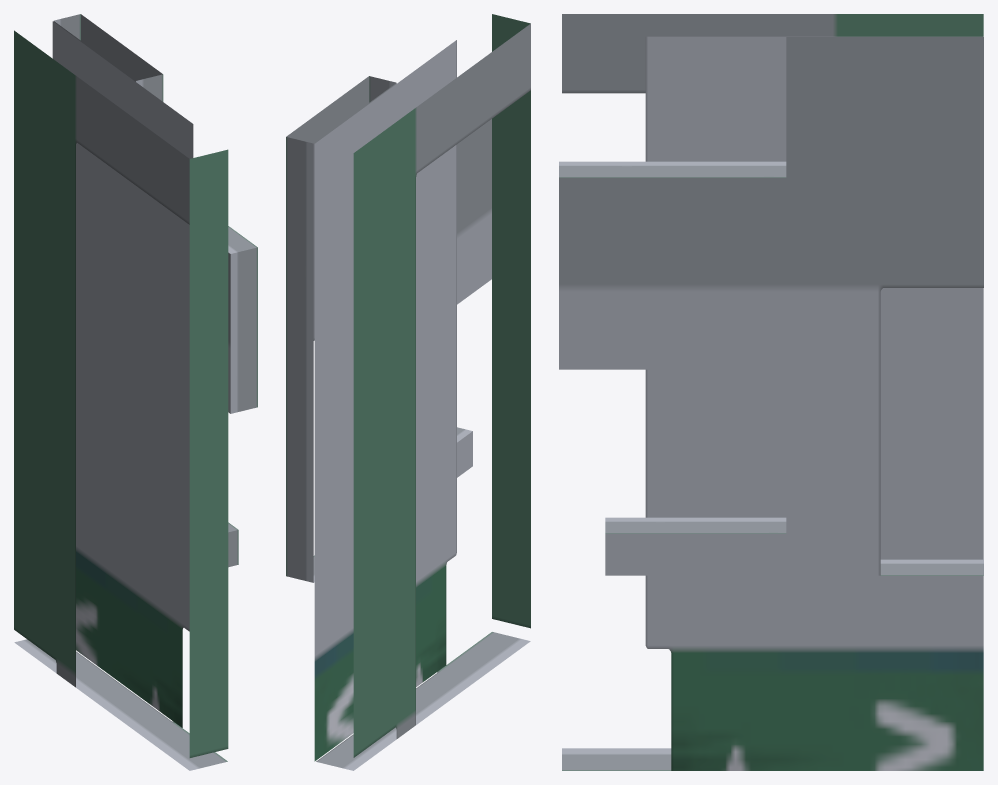
Rendered from section-1.obj.
3 views of the same model, side by side, from view 1: azimuth 30°, elevation 25°; view 2: azimuth 150°, elevation 25°; view 3: azimuth 270°, elevation 25° (orthographic). The views are drawn at different scales.
Size of the model in its own units: 0.0859 by 0.7512 by 0.3939.
